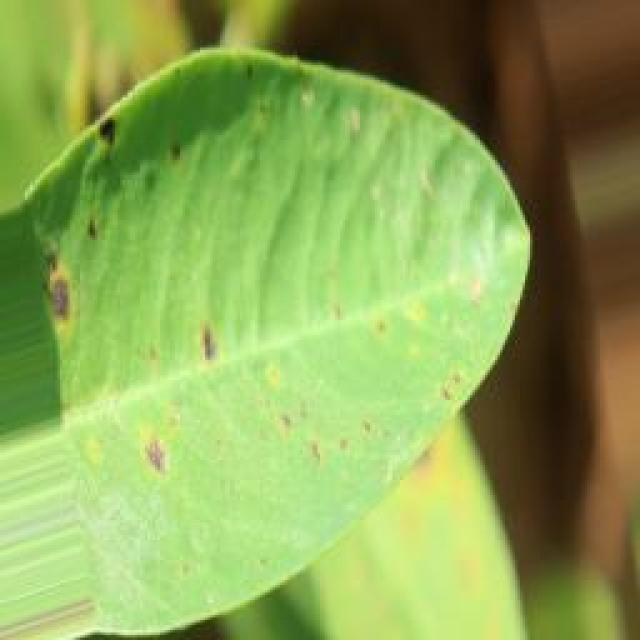Sigatoka: (80, 387, 225, 502), (352, 294, 488, 410), (226, 382, 380, 473), (86, 114, 248, 192), (20, 228, 133, 339), (151, 290, 228, 390), (301, 88, 379, 154)
